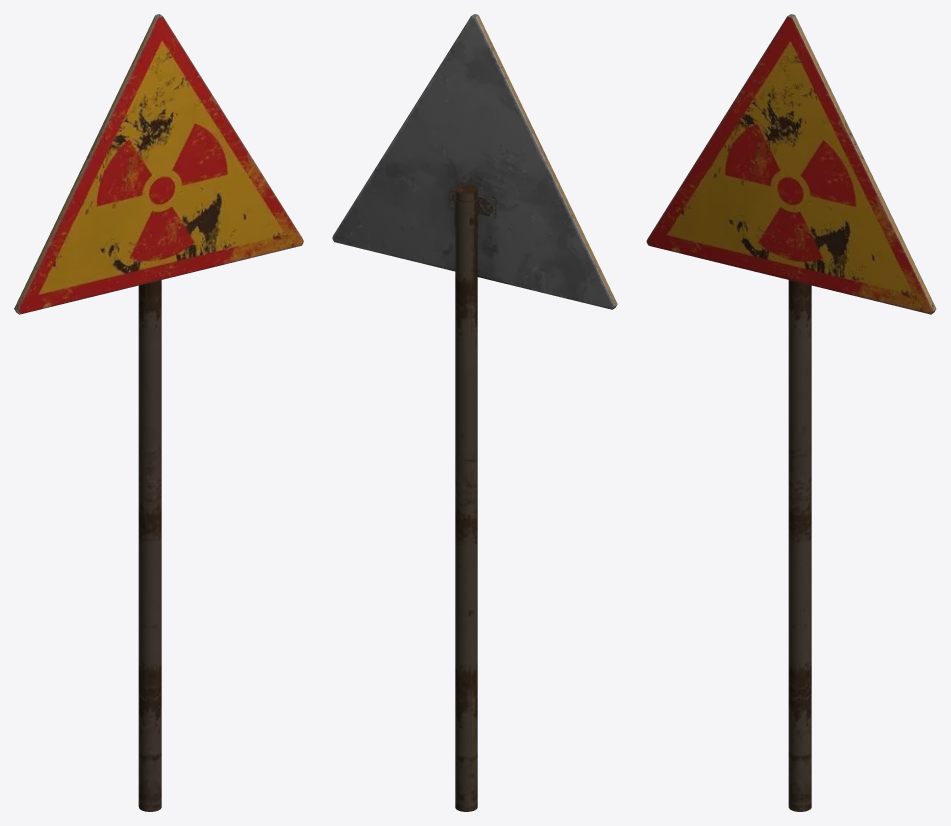
File: rad-sign.glb
3 views of the same model, side by side, from view 1: azimuth 30°, elevation 25°; view 2: azimuth 150°, elevation 25°; view 3: azimuth 330°, elevation 25° (orthographic).
Bounding box in the file's own units: 2.02 × 5.36 × 0.2072.
Materials: 1 (1 with a texture image).
